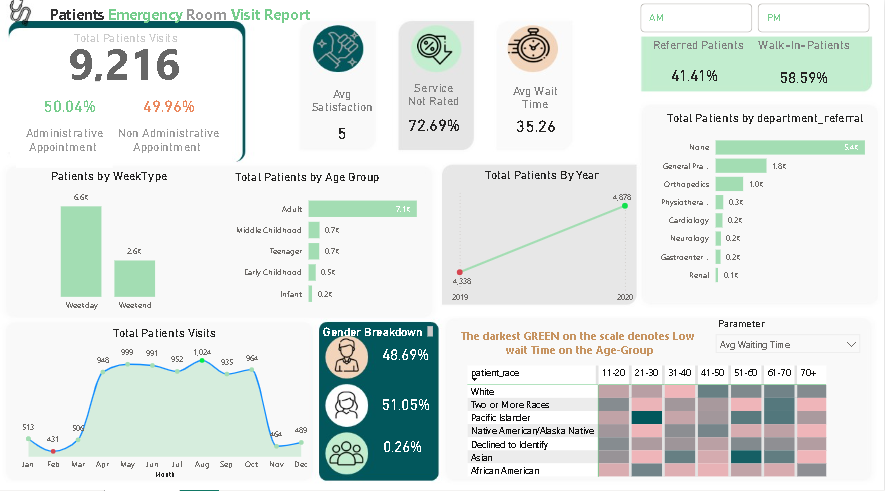

What the dashboard file says about the page in this screenshot:
{"tool":"powerbi","page":{"name":"Page 1","canvas":[1280,720],"ordinal":0},"visuals":[{"type":"card","fields":{"Values":["Calculations.Total Patients"]},"box":[54.7,53.1,248.4,68.8],"z":0},{"type":"card","fields":{"Values":["Calculations.% Administrative Schedule"]},"box":[37.5,126.2,125,53.8],"z":1000},{"type":"card","fields":{"Values":["Calculations.% None-Administrative Schedule"]},"box":[157.5,117.5,172.5,72.5],"z":2000},{"type":"pivotTable","fields":{"Values":["Calculations.Avg Waiting Time"],"Rows":["Patients Dataset.patient_race"],"Columns":["Patients Dataset.Age Buckets"]},"box":[671.9,525,607.8,173.4],"z":3000},{"type":"slicer","fields":{"Values":["Parameter.Parameter"]},"box":[1027.1,457.1,228.6,55.7],"z":4000},{"type":"clusteredBarChart","fields":{"Category":["Patients Dataset.Age Group"],"Y":["Calculations.Total Patients"]},"box":[335.9,246.9,293.8,209.4],"z":5000},{"type":"areaChart","title":"Total Patients Visits","fields":{"Category":["Date.Month"],"Y":["Calculations.Total Patients"]},"box":[21.9,471.9,434.4,226.6],"z":6000},{"type":"advancedSlicerVisual","fields":{"Values":["Patients Dataset.Moment"]},"box":[922.9,0,342.9,52.9],"z":7000},{"type":"lineChart","title":"Total Patients By Year","fields":{"Category":["Date.Year"],"Y":["Calculations.Total Patients"]},"box":[650,243.8,273.4,204.7],"z":8000},{"type":"card","fields":{"Values":["Calculations.% Un Referred Patients"]},"box":[1116.7,85,95,53.3],"z":9000},{"type":"card","fields":{"Values":["Calculations.% Referred Patients"]},"box":[958.3,80,98.3,58.3],"z":10000},{"type":"card","fields":{"Values":["Calculations.HitMap Caption"]},"box":[650,458.6,377.1,77.1],"z":11000},{"type":"textbox","box":[22.5,178.8,140,65],"z":12000},{"type":"textbox","box":[157.5,178.8,172.5,50],"z":13000},{"type":"card","title":"Avg Satisfaction ","fields":{"Values":["Calculations.Average Satisfaction Score"]},"box":[440.6,126.6,110.9,93.8],"z":14000},{"type":"card","title":"Service Not Rated","fields":{"Values":["Calculations.% Non-Rated Patients"]},"box":[582.8,117.2,92.2,87.5],"z":15000},{"type":"card","title":"Avg Wait Time","fields":{"Values":["Calculations.Avg Waiting Time"]},"box":[726.6,121.9,100,81.2],"z":16000},{"type":"textbox","box":[938.3,50,153.3,40],"z":17000},{"type":"textbox","box":[1085,50,160,41.7],"z":18000},{"type":"clusteredColumnChart","title":"Patients by WeekType","fields":{"Y":["Calculations.Total Patients"],"Category":["Date.WeekType"]},"box":[12.9,244.3,290,214.3],"z":19000},{"type":"clusteredBarChart","fields":{"Y":["Calculations.Total Patients"],"Category":["Patients Dataset.department_referral"]},"box":[939.1,160.9,340.6,264.1],"z":20000},{"type":"card","fields":{"Values":["Calculations.% Female Visit"]},"box":[545.3,479.7,84.4,68.8],"z":21000},{"type":"card","fields":{"Values":["Calculations.% Male Visit"]},"box":[545.3,551.6,84.4,68.8],"z":22000},{"type":"card","fields":{"Values":["Calculations.% Unknown"]},"box":[540.6,612.5,84.4,68.8],"z":23000},{"type":"textbox","box":[92.2,40.6,179.7,39.1],"z":24000},{"type":"textbox","box":[458.8,466.2,172.5,26.2],"z":25000},{"type":"textbox","box":[68.6,0,454.3,40],"z":25002}]}

Visuals, with their boxes in screenshot pixels (x1, y1, x2, y2), scaled from the page's 1280x720 canvas onto the 885x491 screenshot:
card - Calculations.Total Patients: 38/36/210/83
card - Calculations.% Administrative Schedule: 26/86/112/123
card - Calculations.% None-Administrative Schedule: 109/80/228/130
pivotTable - Calculations.Avg Waiting Time x Patients Dataset.patient_race: 465/358/884/476
slicer - Parameter.Parameter: 710/312/868/350
clusteredBarChart - Patients Dataset.Age Group x Calculations.Total Patients: 232/168/435/311
"Total Patients Visits" areaChart: 15/322/315/476
advancedSlicerVisual - Patients Dataset.Moment: 638/0/875/36
"Total Patients By Year" lineChart: 449/166/638/306
card - Calculations.% Un Referred Patients: 772/58/838/94
card - Calculations.% Referred Patients: 663/55/731/94
card - Calculations.HitMap Caption: 449/313/710/365
textbox: 16/122/112/166
textbox: 109/122/228/156
"Avg Satisfaction " card: 305/86/381/150
"Service Not Rated" card: 403/80/467/140
"Avg Wait Time" card: 502/83/572/139
textbox: 649/34/755/61
textbox: 750/34/861/63
"Patients by WeekType" clusteredColumnChart: 9/167/209/313
clusteredBarChart - Calculations.Total Patients x Patients Dataset.department_referral: 649/110/884/290
card - Calculations.% Female Visit: 377/327/435/374
card - Calculations.% Male Visit: 377/376/435/423
card - Calculations.% Unknown: 374/418/432/465
textbox: 64/28/188/54
textbox: 317/318/436/336
textbox: 47/0/362/27
